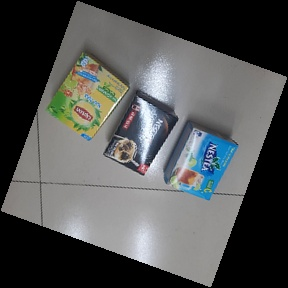CF Viet: (103, 89, 179, 178)
LipTon: (46, 50, 131, 142)
Nestea: (164, 120, 238, 201)
